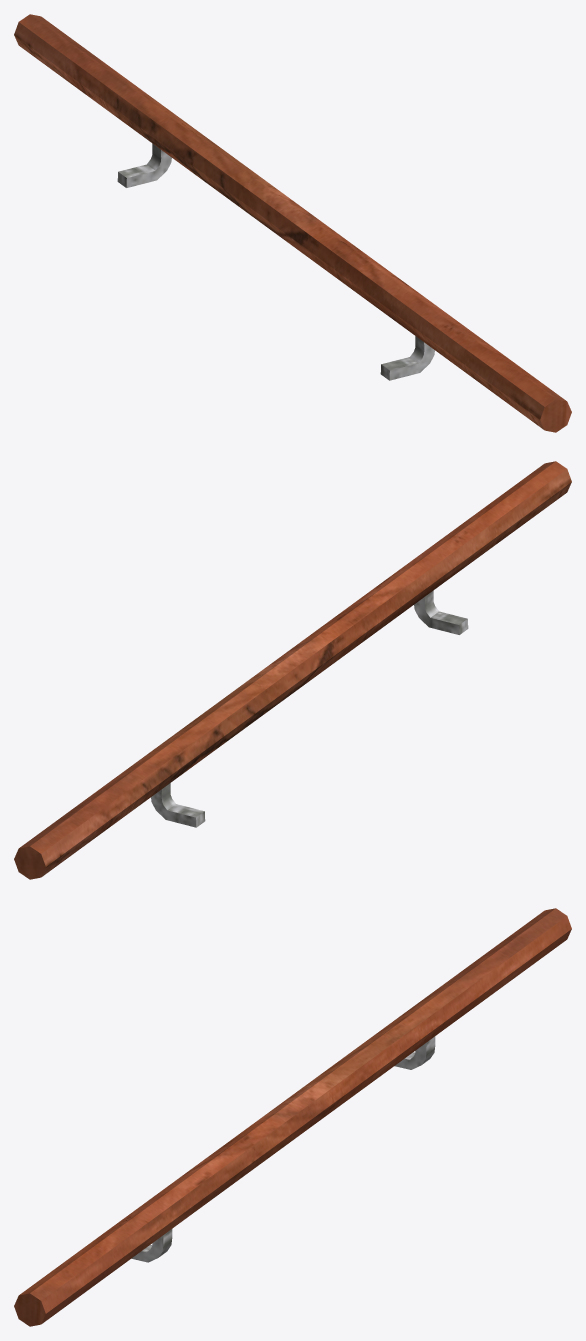
Rendered from wall_rail.fbx.
3 renders of one model, top to bottom at view 1: azimuth 30°, elevation 25°; view 2: azimuth 150°, elevation 25°; view 3: azimuth 330°, elevation 25°, orthographic.
Visible parts, largest first — view 1: HandRail; view 2: HandRail; view 3: HandRail.
Part boxes in pixels (x1,y1,x2,y2): HandRail: [14, 14, 571, 432]; HandRail: [14, 461, 571, 879]; HandRail: [14, 908, 571, 1326].
Bounding box in the file's own units: 12.15 × 13.61 × 200.
Materials: 1 (1 with a texture image).
